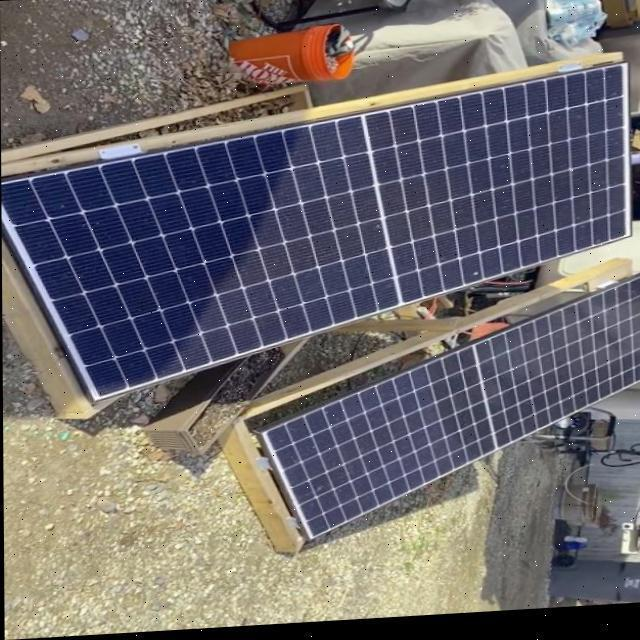Normal Solar Panel: (1, 70, 628, 403), (258, 284, 640, 545)
